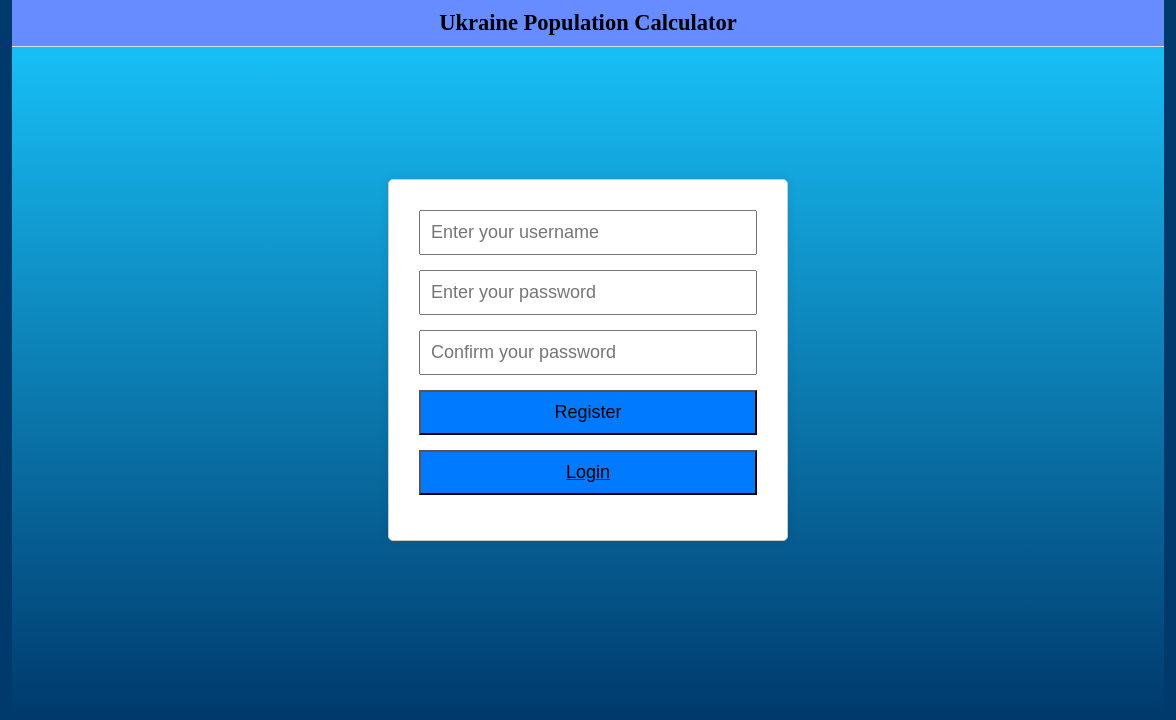
it: Ukraine Population Calculator App › should display an error message for invalid password login
In the field with id "username": x=588, y=233 [419,210,757,255], type "testuser"
In the password field with placeholder "Enter your password": x=588, y=293 [419,270,757,315], type "password"
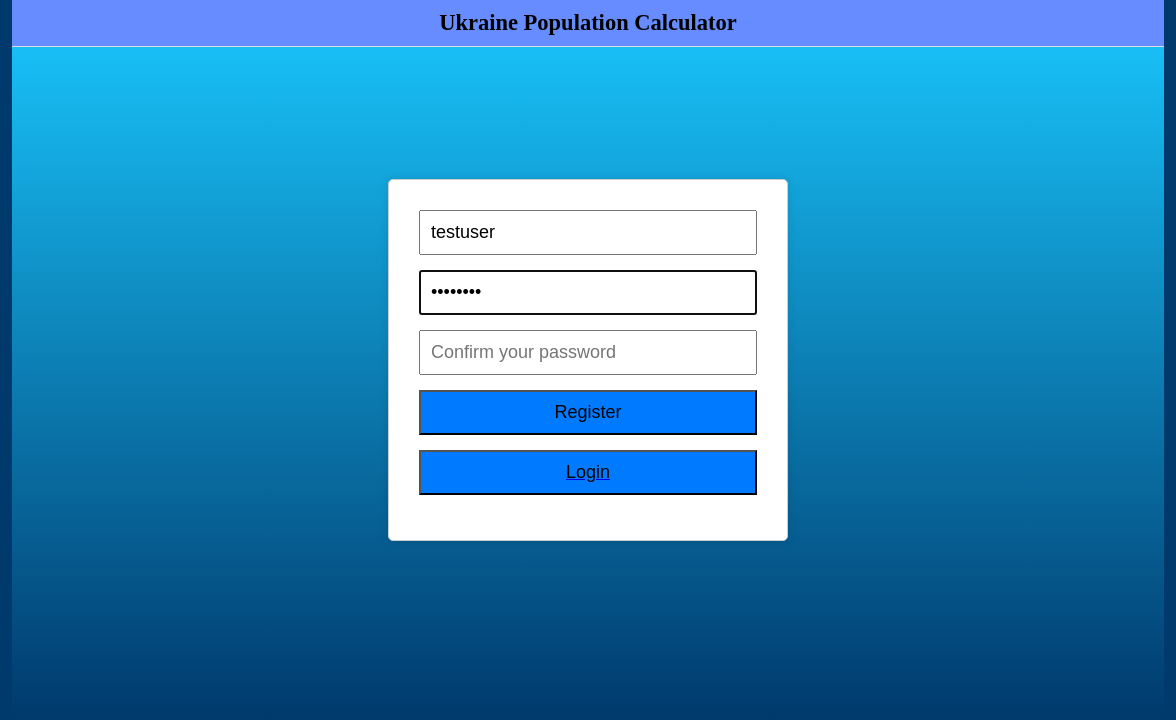
In the password field with id "confirm-password": x=588, y=353 [419,330,757,375], type "password"
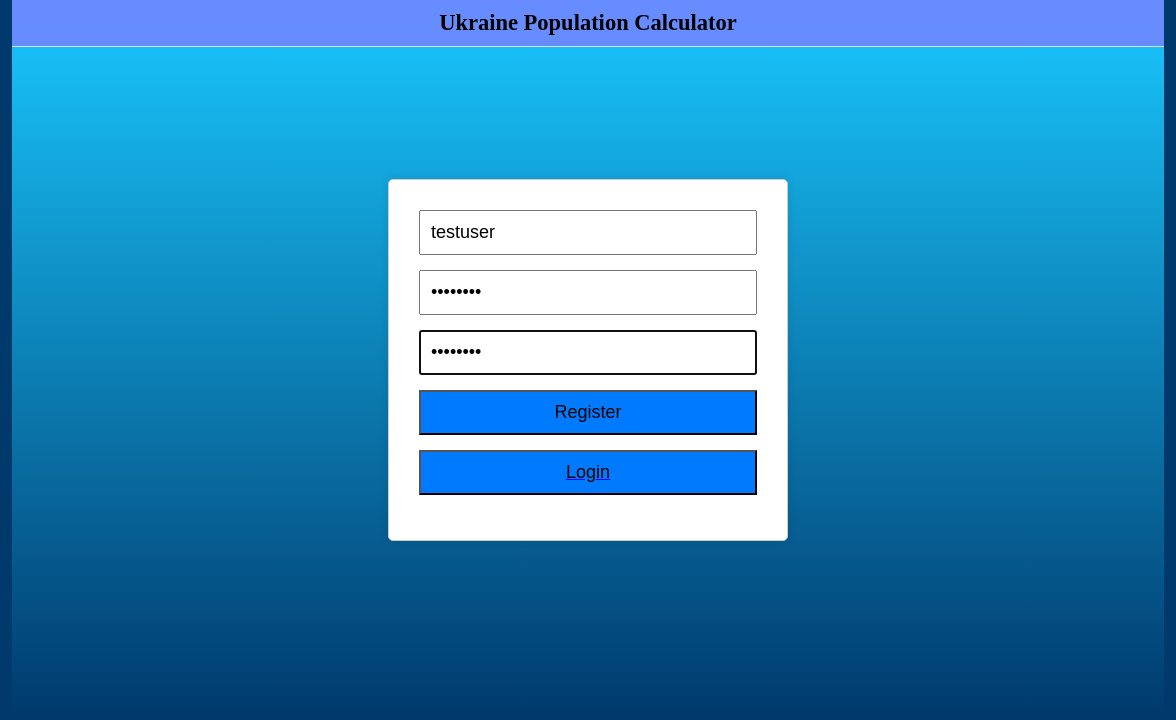
Submit the form, box [419,210,757,495]
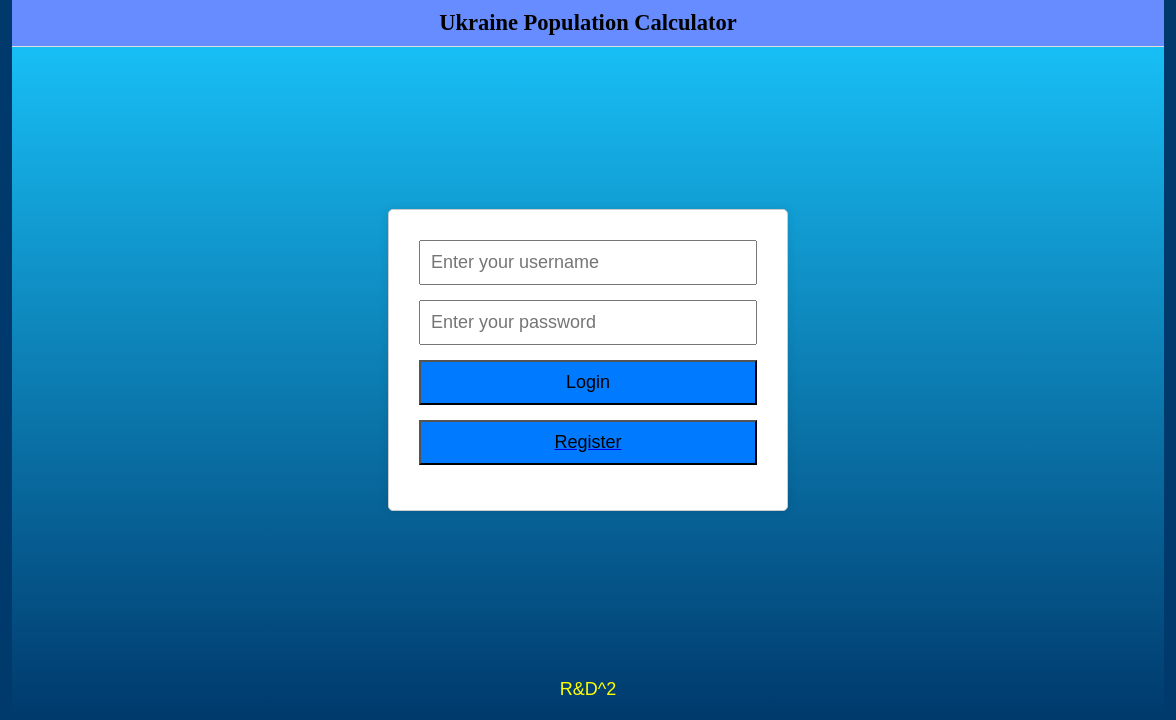
Open "/login"
In the field with id "username": x=588, y=263 [419,240,757,285], type "testuser"
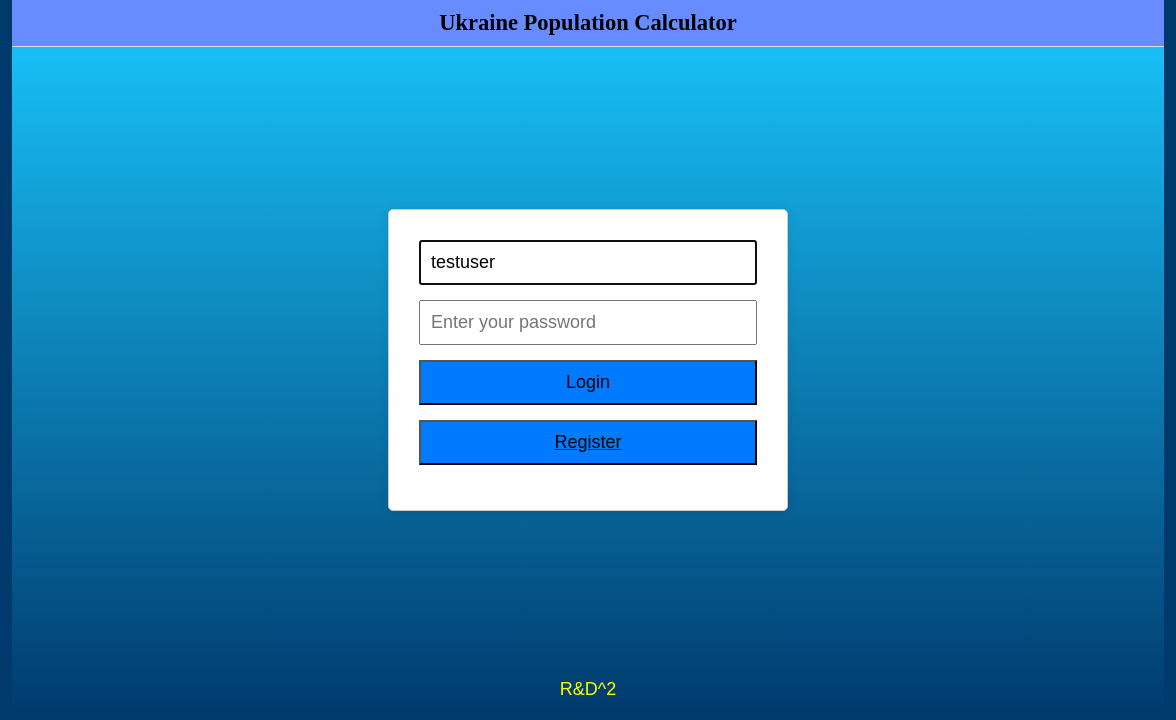
In the password field with placeholder "Enter your password": x=588, y=323 [419,300,757,345], type "password_wrong"
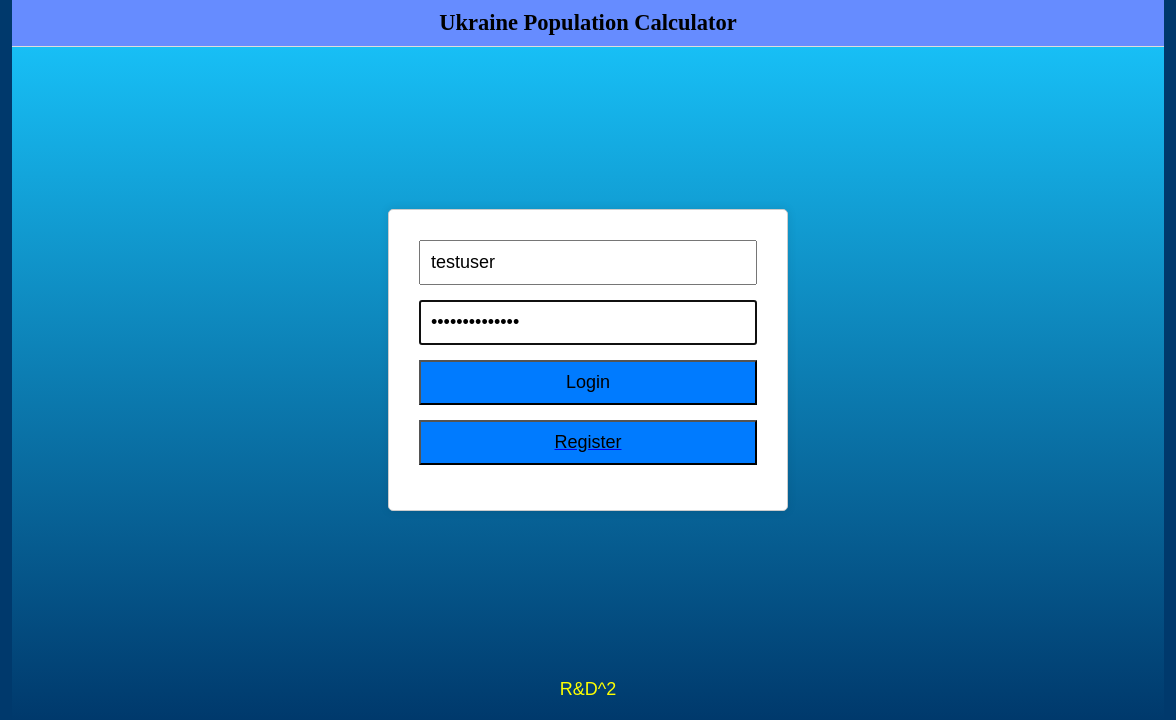
Submit the form, box [419,240,757,465]
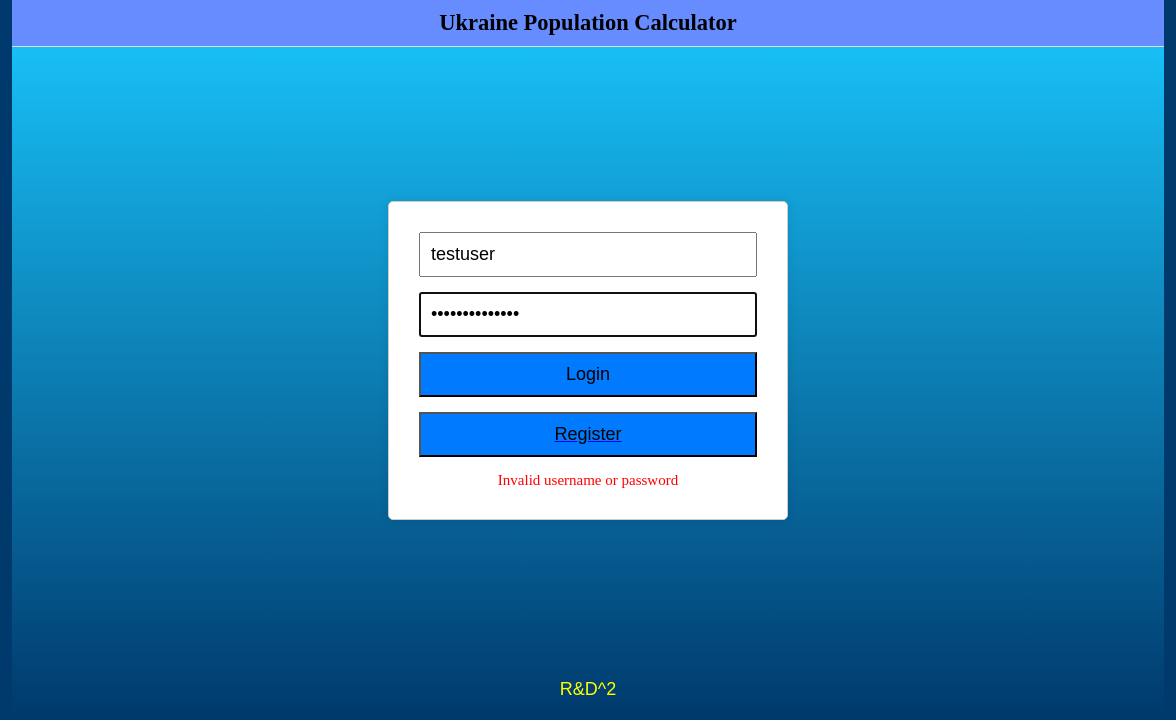
Check: the text with class "error" reads "Invalid username or password", box [498,472,678,488]
